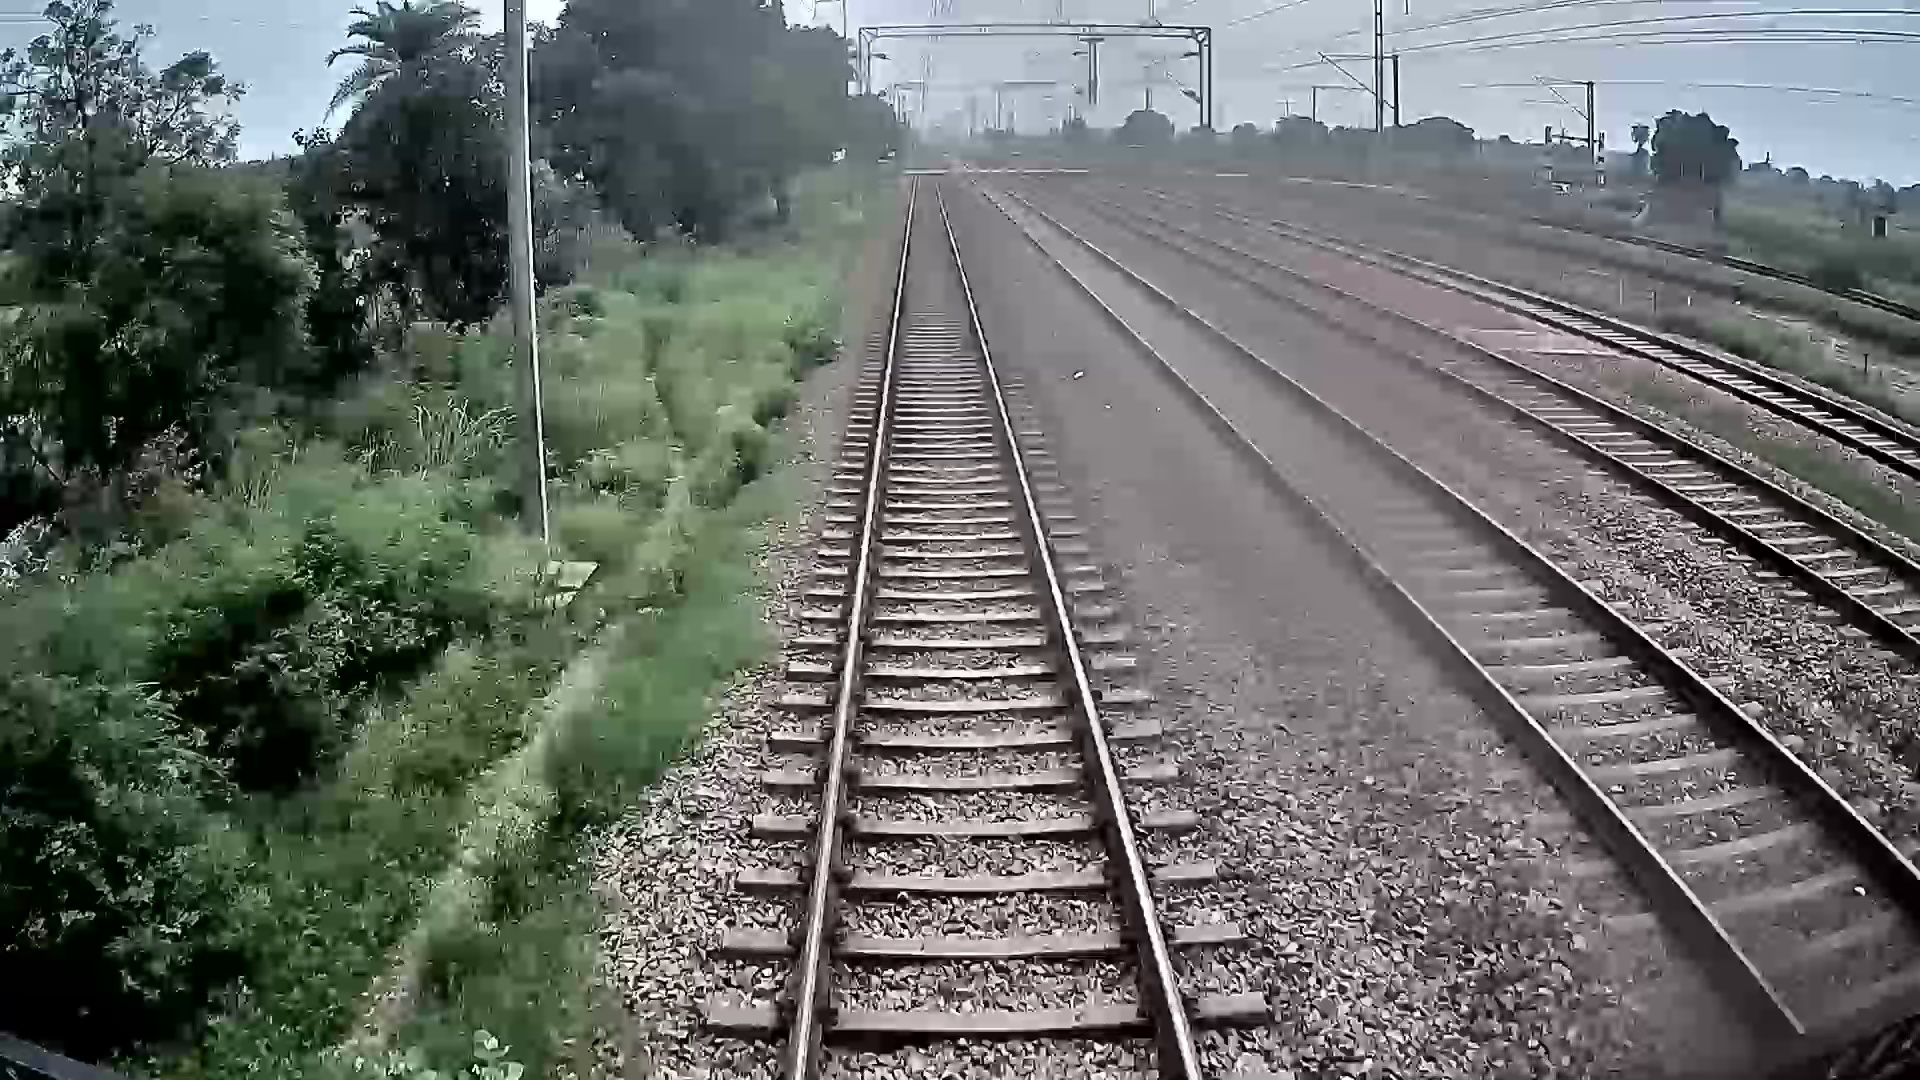track1: (796, 175, 1192, 1065)
track2: (973, 182, 1916, 984)
track3: (1149, 227, 1917, 626)
track4: (1336, 247, 1919, 460)
